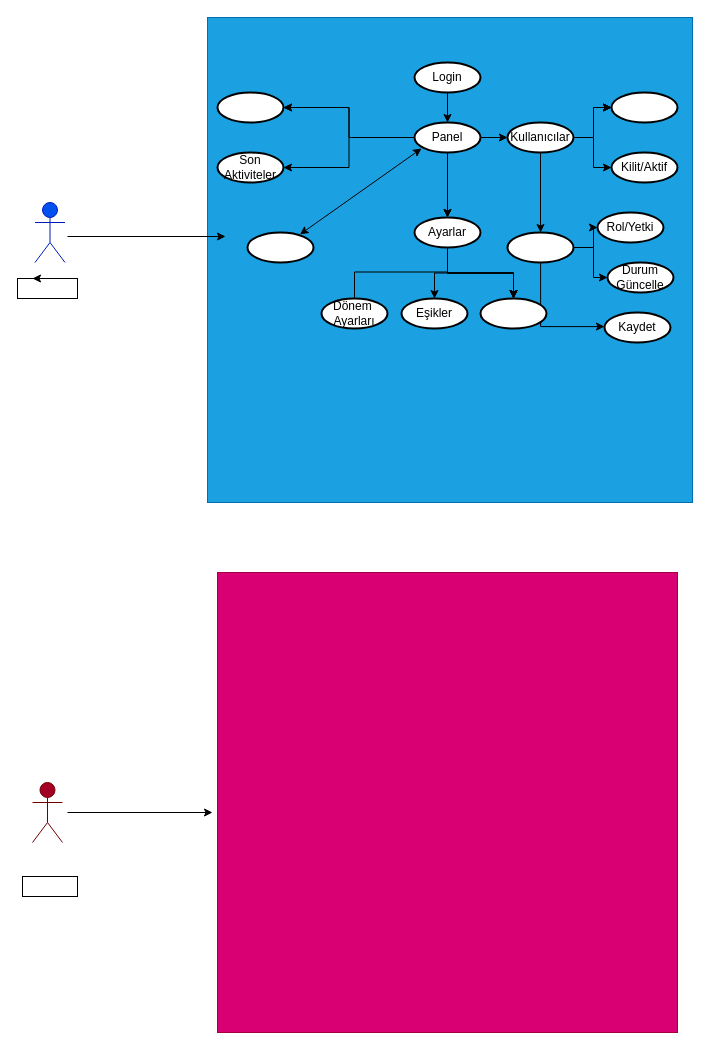
Some shapes in this 710 by 1050 pixel diagram are drawn without their labels. The centre of each missing label's shape, as x and y in pixels:
"Arama/filtre" goes at pixel 644 107.
"Bildirim Politikası" goes at pixel 513 313.
"KPI özeti" goes at pixel 250 107.
"Kullanı Detay" goes at pixel 540 247.
"Loglar" goes at pixel 280 247.
"Öğrenci" goes at pixel 50 886.
"Öğrenim" goes at pixel 47 288.
